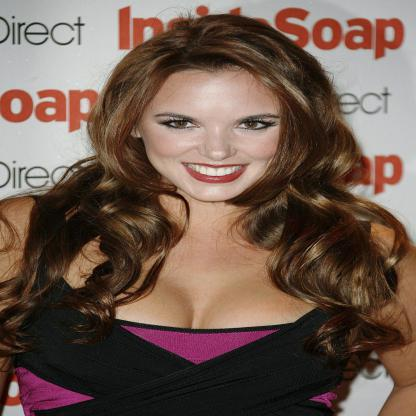long-hair: (74, 204, 360, 238)
